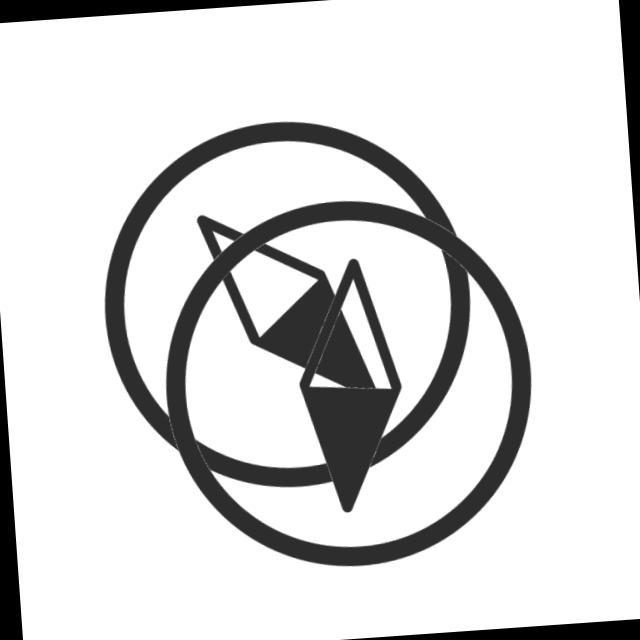compass: (79, 96, 489, 510), (147, 184, 552, 585)
